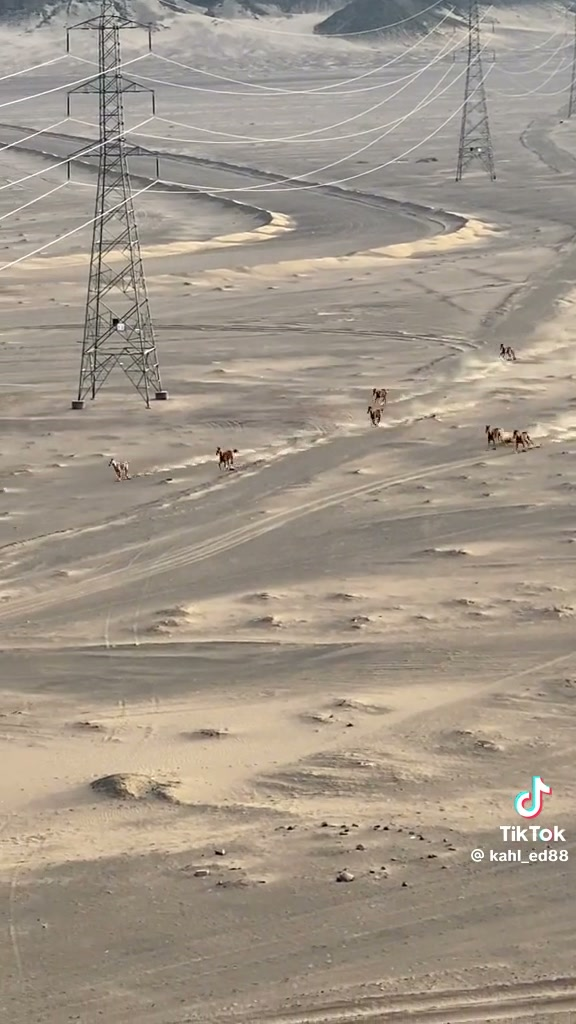animal: (216, 446, 237, 469), (512, 429, 533, 451), (109, 458, 129, 480), (485, 425, 502, 448), (499, 343, 515, 360), (367, 405, 380, 425), (373, 388, 386, 404), (505, 346, 516, 361)
vehicle_track: (0, 454, 478, 622), (261, 977, 575, 1023)
